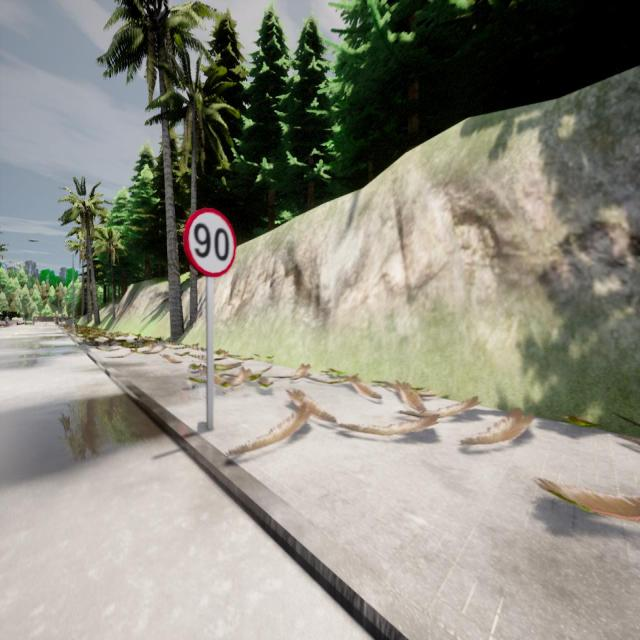Traffic_Signs: (183, 208, 236, 277), (4, 314, 10, 327)
